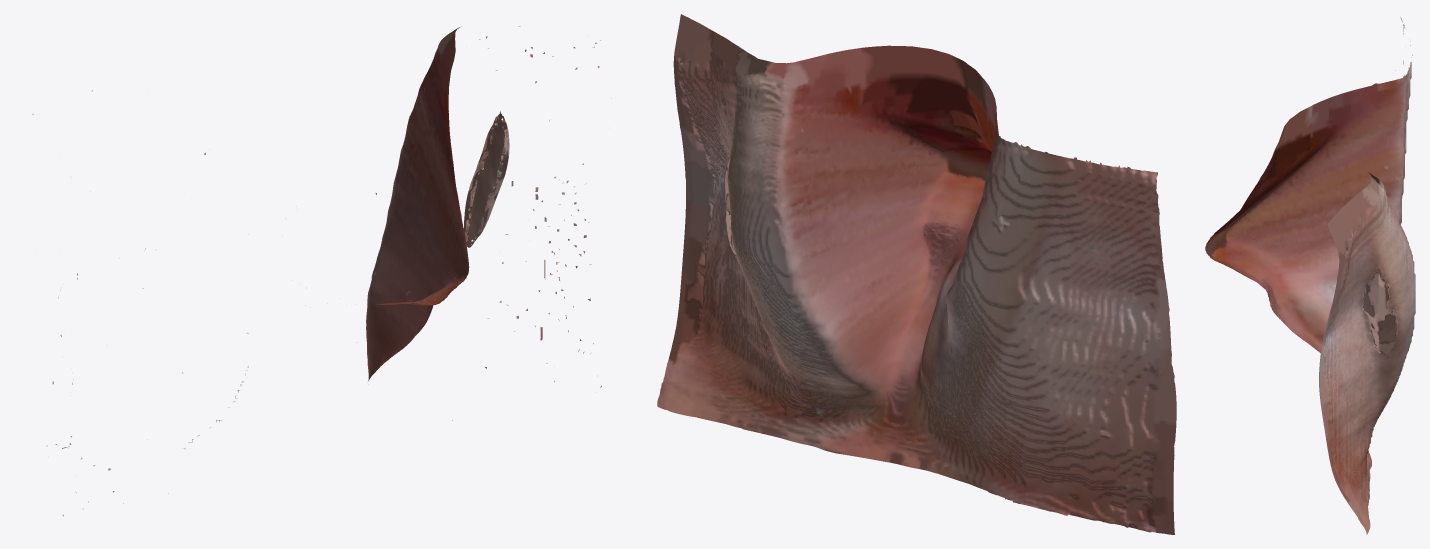
The model's file is lesion (5).gltf.
3 renders of one model, left to right at view 1: azimuth 30°, elevation 25°; view 2: azimuth 150°, elevation 25°; view 3: azimuth 270°, elevation 25°, orthographic. The views are drawn at different scales.
Bounding box in the file's own units: 0.00144 × 0.000998 × 0.000608.
